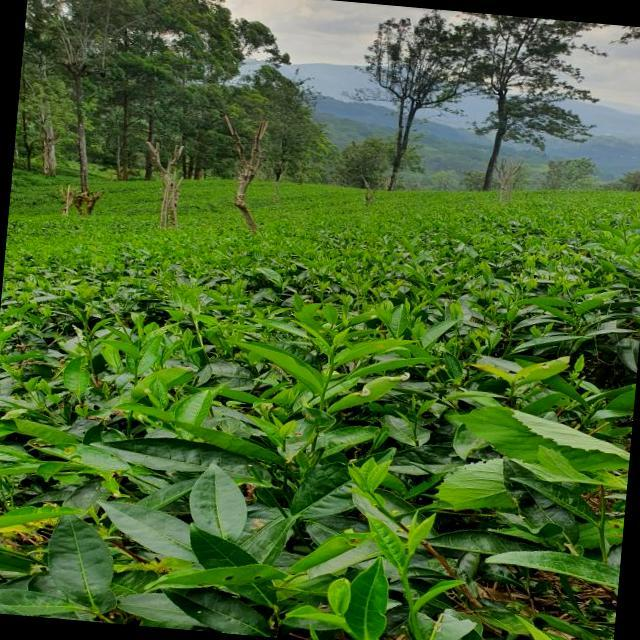Stem: (400, 573, 408, 584), (328, 370, 334, 378), (135, 365, 138, 372), (84, 324, 87, 331)
